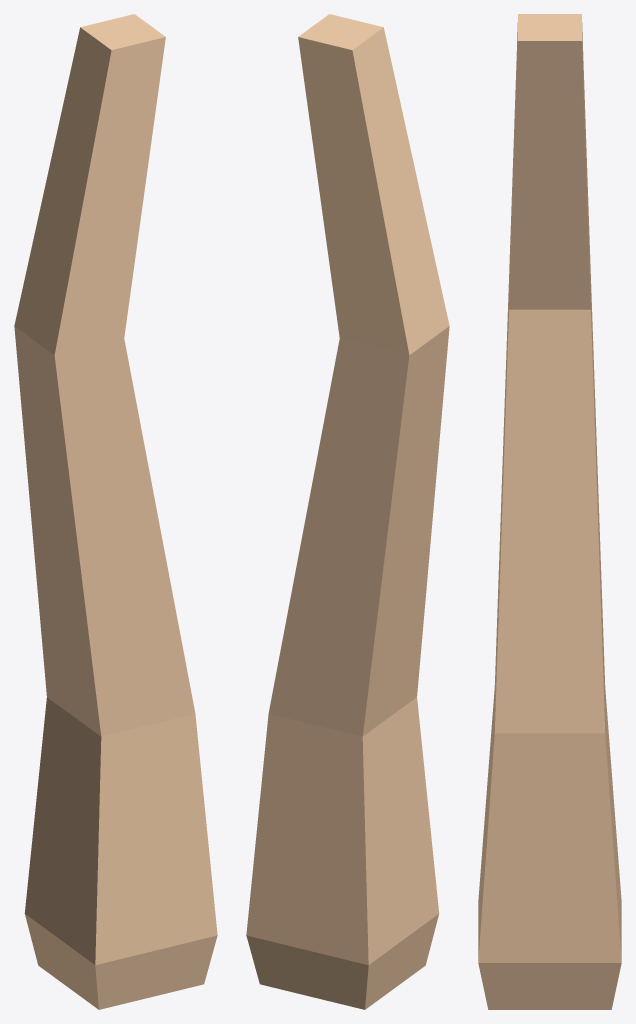
The picture shows the model from 3 angles, left to right: view 1: azimuth 30°, elevation 25°; view 2: azimuth 150°, elevation 25°; view 3: azimuth 270°, elevation 25°; orthographic projection.
Parts seen in each view (by area): view 1: Group 140; view 2: Group 140; view 3: Group 140.
Part boxes in pixels (x1,y1,x2,y2): Group 140: (14, 14, 217, 1009); Group 140: (246, 14, 449, 1009); Group 140: (478, 14, 621, 1009).
Size of the model in its own units: 45.86 by 279 by 37.93.
